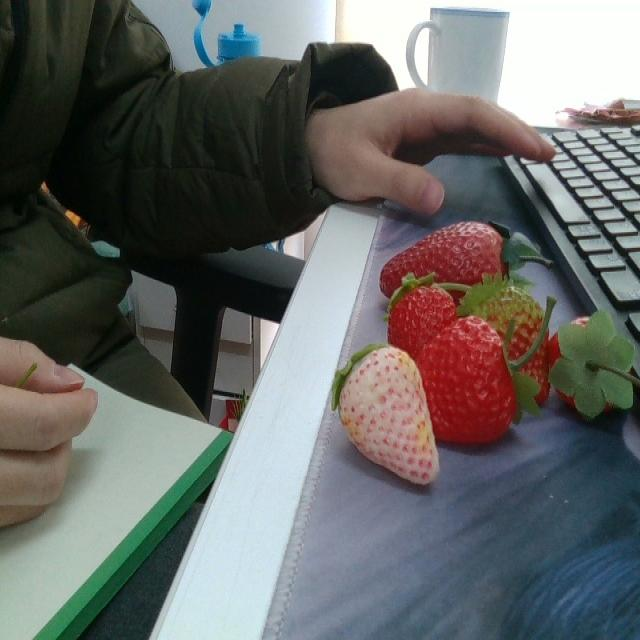immature: (338, 342, 440, 488), (469, 280, 550, 407)
mature: (414, 319, 516, 444), (371, 213, 515, 288), (391, 283, 453, 352)
